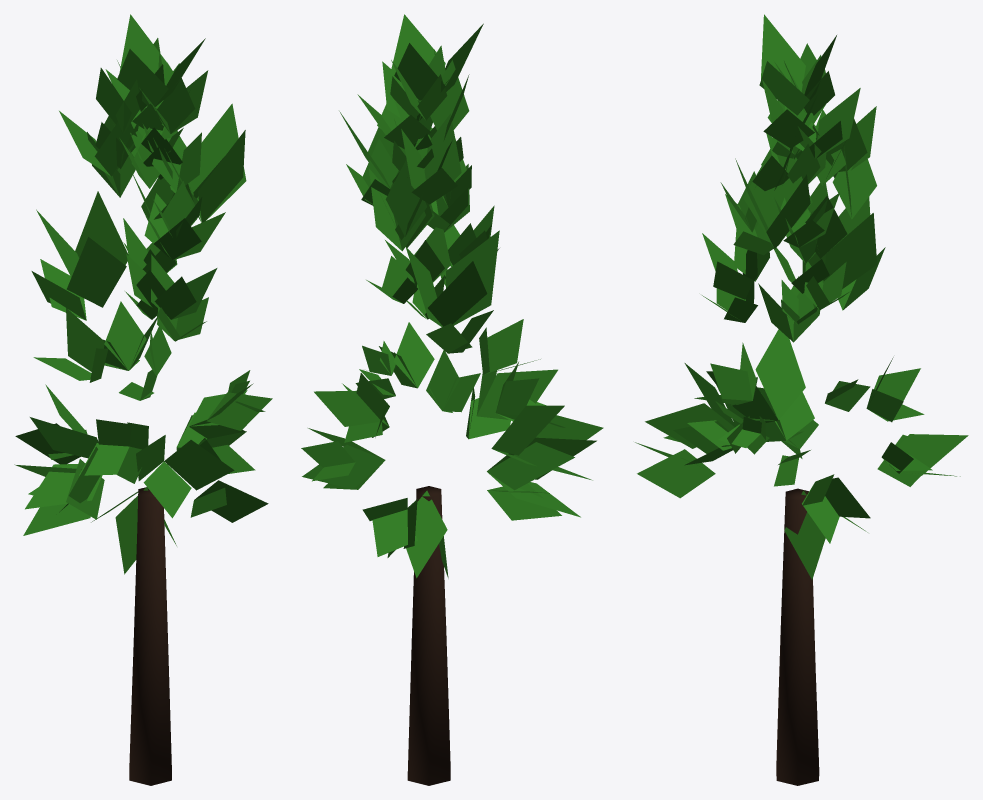
Rendered from Tree_10_B_LOD2.obj.
3 views of the same model, side by side, from view 1: azimuth 30°, elevation 25°; view 2: azimuth 150°, elevation 25°; view 3: azimuth 270°, elevation 25° (orthographic).
Visible parts, largest first — view 1: Leaves, Trunk; view 2: Leaves, Trunk; view 3: Leaves, Trunk.
Part boxes in pixels (x1,y1,x2,y2): Leaves: (14,14,272,574); Trunk: (129,487,171,785); Leaves: (301,14,603,578); Trunk: (407,486,450,785); Leaves: (635,14,968,579); Trunk: (776,488,819,785).
Bounding box in the file's own units: 5.38 × 15.07 × 6.19.
